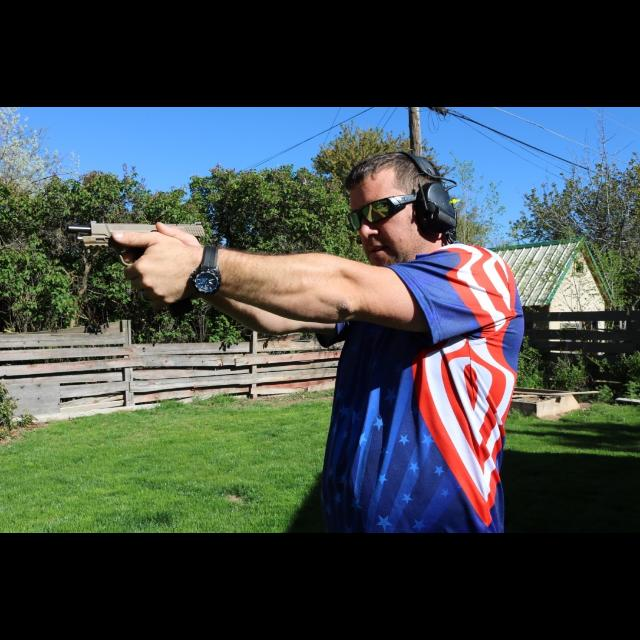handgun: (61, 218, 211, 268)
